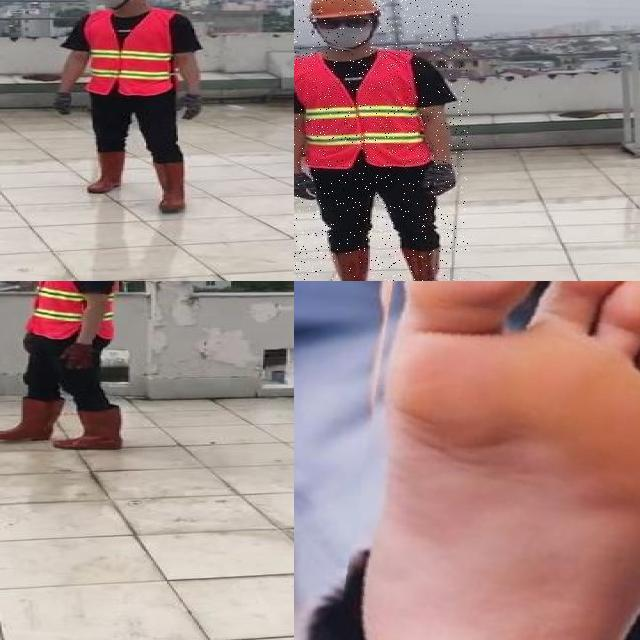Barefoots: (347, 281, 640, 640)
boots: (0, 399, 65, 443), (57, 409, 126, 449), (149, 161, 187, 214), (402, 247, 457, 281), (327, 247, 375, 281), (89, 151, 125, 192)
face_mask: (94, 0, 129, 7)
hand_glove: (174, 95, 207, 121), (61, 344, 92, 371), (54, 89, 76, 115)
head_helmet: (307, 0, 381, 20)
person: (294, 0, 469, 281), (45, 0, 214, 219), (0, 281, 137, 452)
vest: (294, 50, 428, 170), (82, 10, 176, 94), (24, 281, 117, 342)
